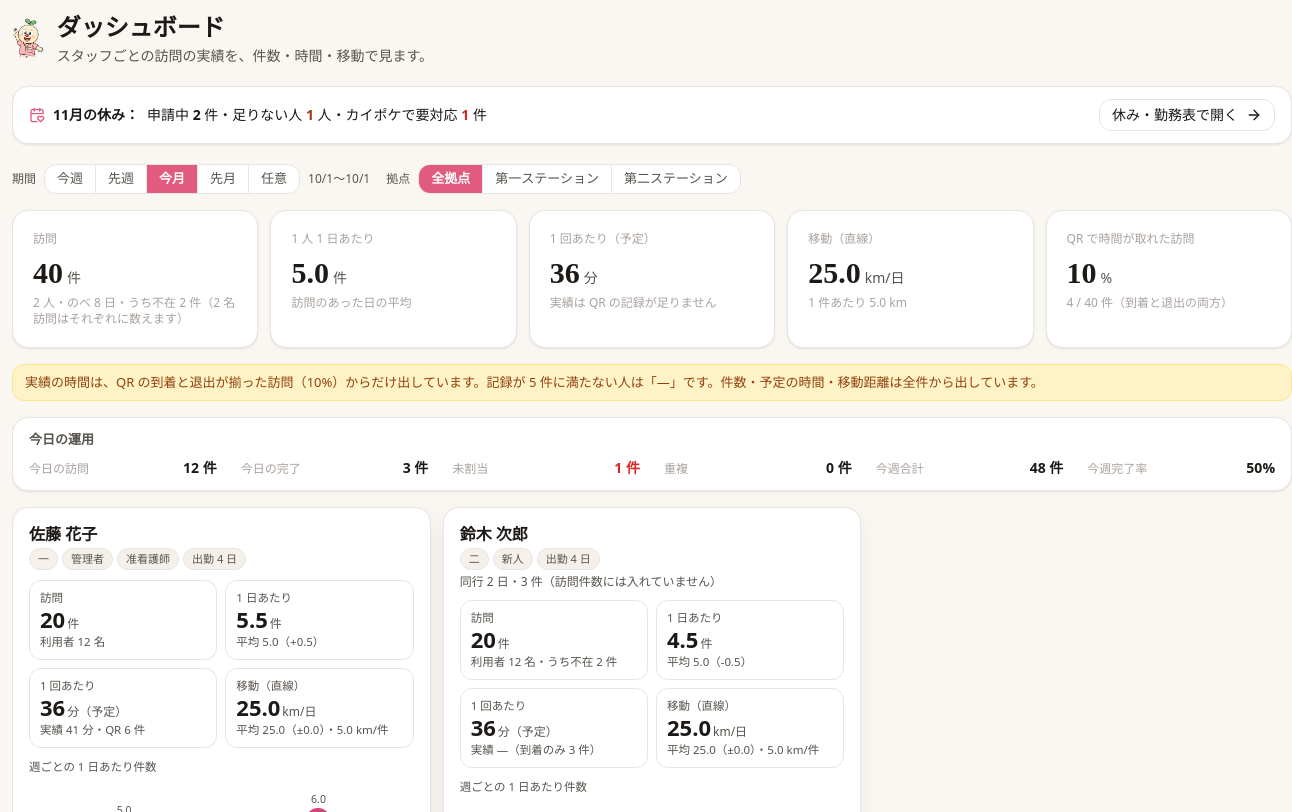
it: 管理者 › 期間 (今日 = 2026-10-01 JST) › 今月は今日まで・先月は 9/1〜9/30・拠点で絞り込む
The image size is (1292, 812).
Click the button "第二ステーション".
click(675, 179)  # box [611,165,740,192]
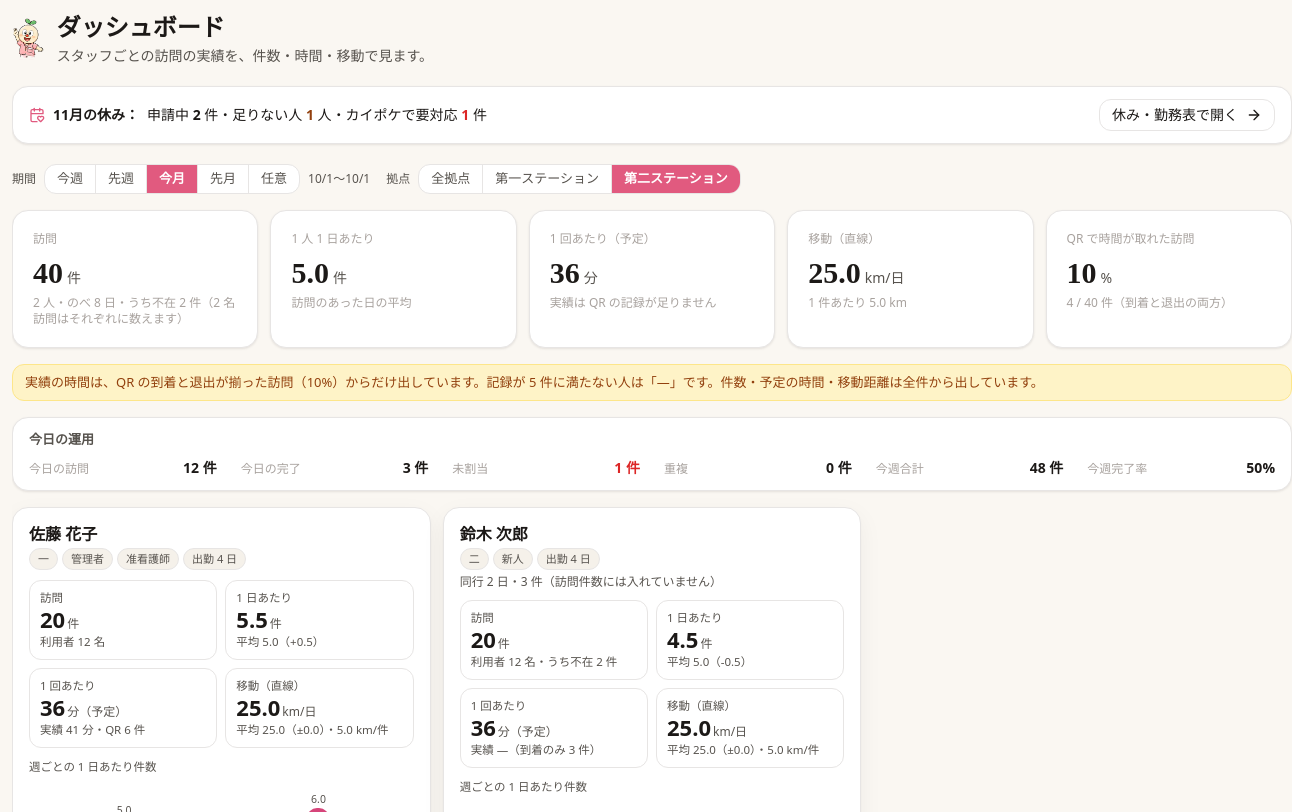
Click the button "先月".
click(223, 179)  # box [197,165,248,192]
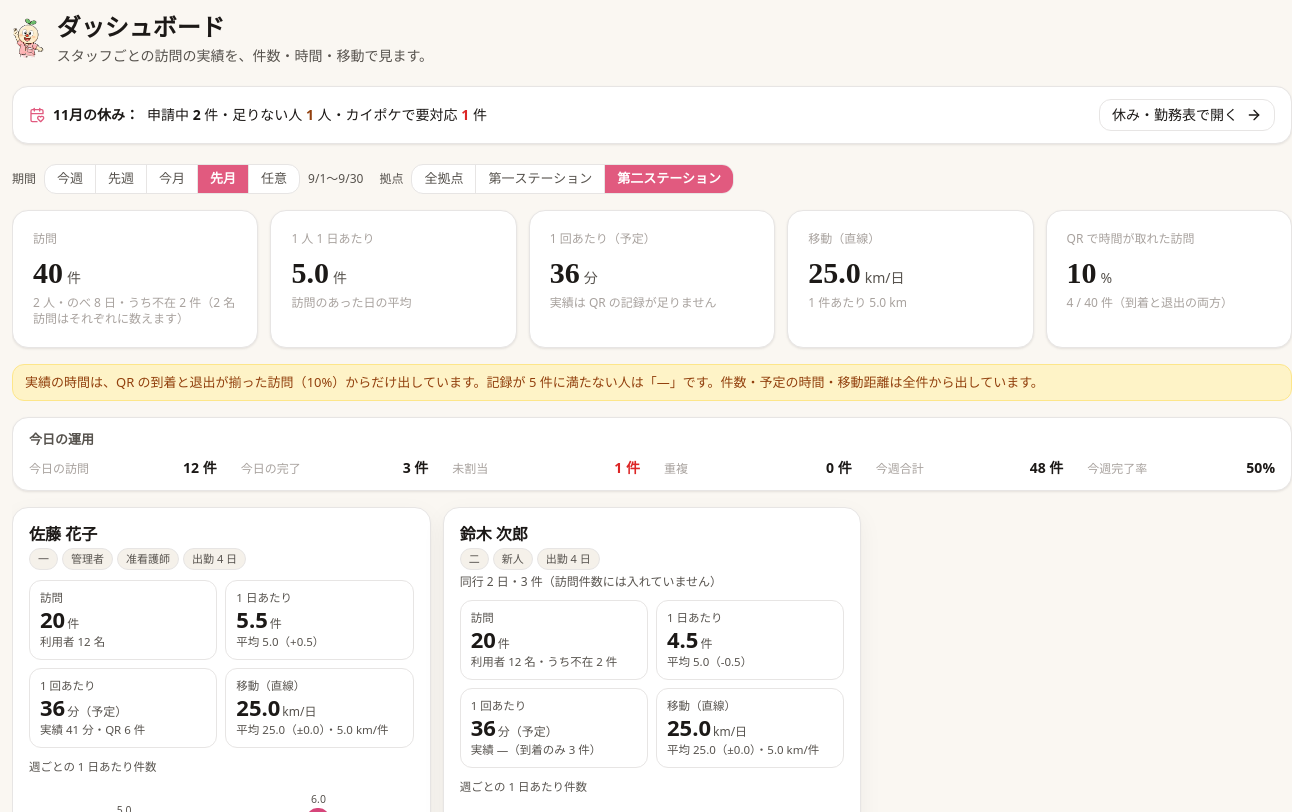
Result: the text "9/1〜9/30" is shown at [308,171,363,187]
